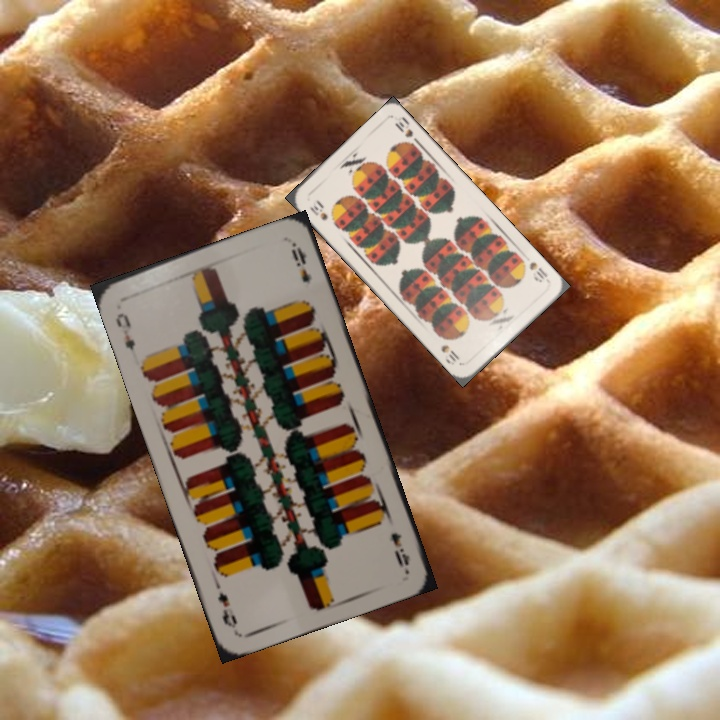E9: (111, 309, 138, 354), (386, 528, 413, 570)
S10: (525, 258, 550, 285), (306, 197, 331, 223)
